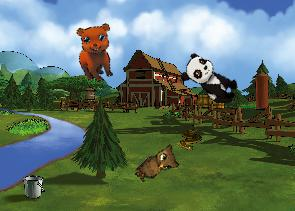bear: (68, 18, 127, 86)
owl: (132, 140, 185, 192)
panda: (177, 50, 244, 109)
